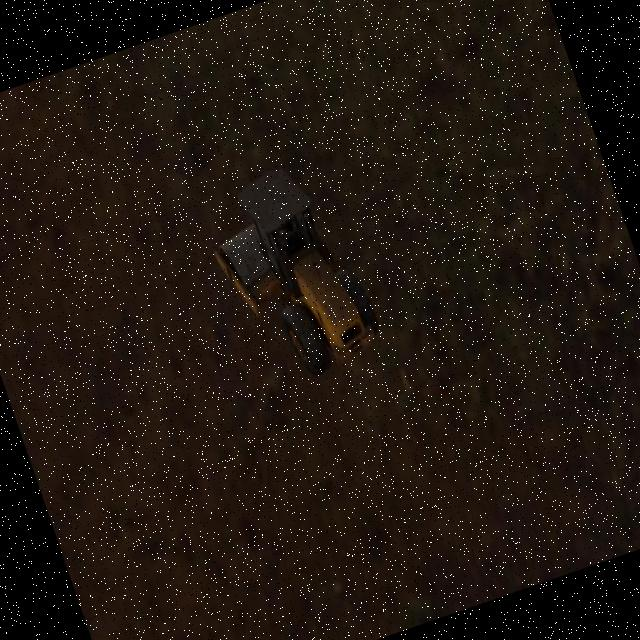Roller: (194, 153, 388, 394)
